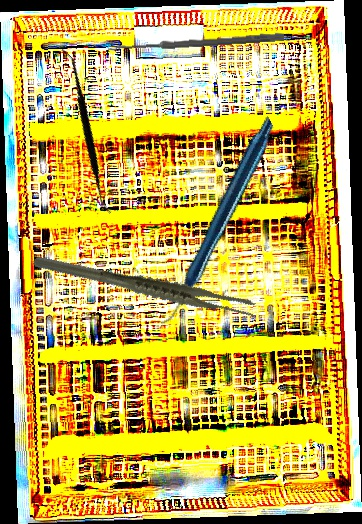Handpiece: (99, 116, 331, 325)
Spatula Surgical: (2, 48, 170, 215)
Surgical Spoon: (107, 31, 285, 54)
Tissue Forceps: (31, 215, 260, 355)
